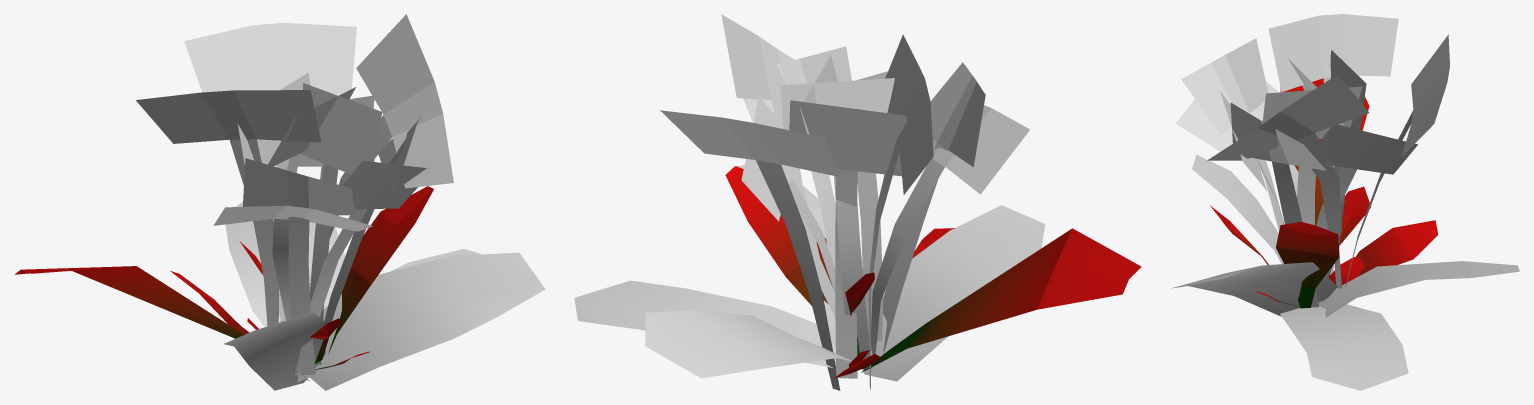
File: Dandelion_Geo.fbx
The picture shows the model from 3 angles, left to right: view 1: azimuth 30°, elevation 25°; view 2: azimuth 150°, elevation 25°; view 3: azimuth 270°, elevation 25°; orthographic projection. The views are drawn at different scales.
Visible parts, largest first — view 1: Dandelion_Geo; view 2: Dandelion_Geo; view 3: Dandelion_Geo.
Part boxes in pixels (x1,y1,x2,y2): Dandelion_Geo: (15,14,545,390); Dandelion_Geo: (574,14,1141,390); Dandelion_Geo: (1170,14,1519,390).
Bounding box in the file's own units: 40.27 × 26.5 × 24.82.
